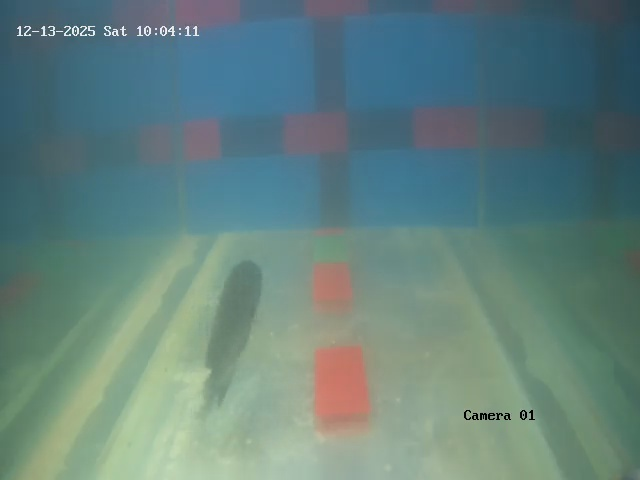fish: (205, 257, 265, 375)
